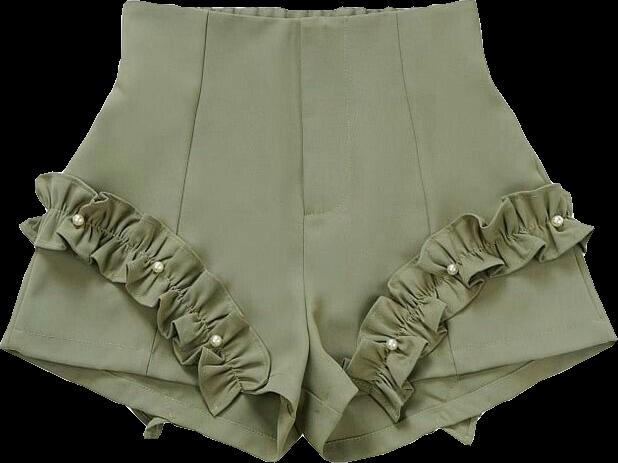Hemline: (319, 336, 617, 449), (0, 345, 295, 449)
Pantleg: (300, 0, 617, 461), (0, 0, 310, 461)
Waistline: (42, 205, 245, 390), (371, 214, 575, 388), (124, 0, 474, 22)
